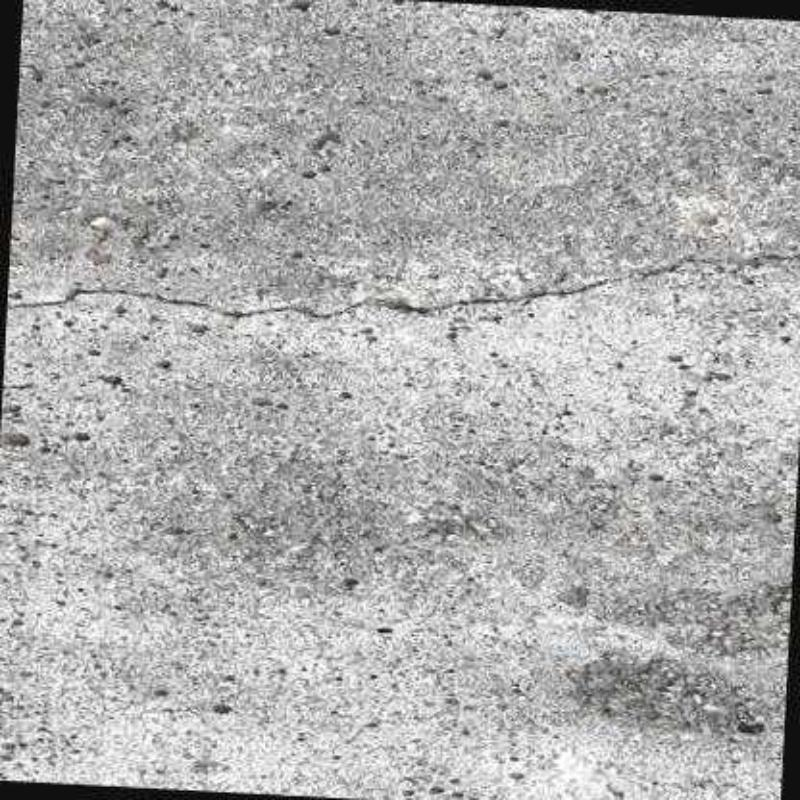pothole: (4, 252, 800, 318)
